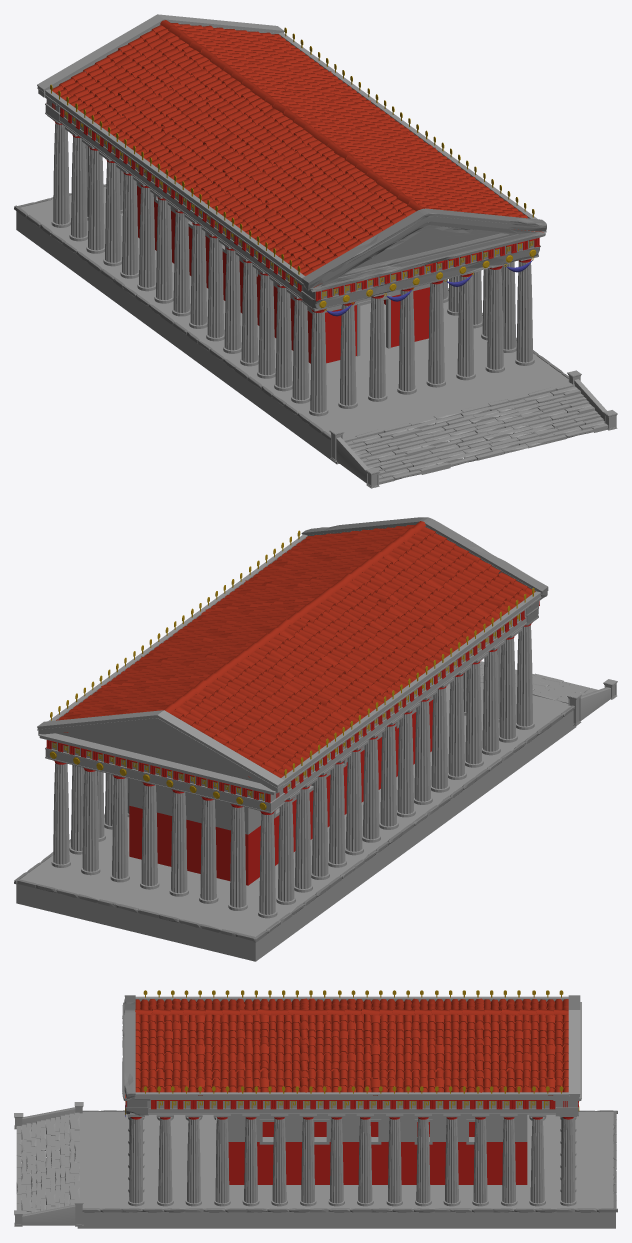
The model's file is SM_temple_greek.fbx.
The picture shows the model from 3 angles, top to bottom: view 1: azimuth 30°, elevation 25°; view 2: azimuth 150°, elevation 25°; view 3: azimuth 270°, elevation 25°; orthographic projection. The views are drawn at different scales.
Visible parts, largest first — view 1: Box007; view 2: Box007; view 3: Box007.
Part boxes in pixels (x1=…): Box007: x1=14, y1=14, x2=617, y2=488; Box007: x1=14, y1=517, x2=617, y2=961; Box007: x1=14, y1=990, x2=617, y2=1228.
Bounding box in the file's own units: 796 × 623 × 2007.
